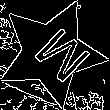M_SW: (17, 19, 86, 87)
